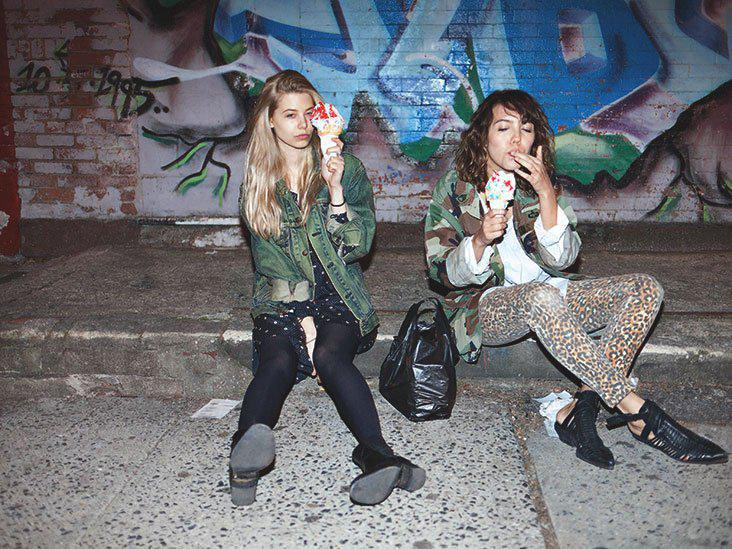Drunk: (484, 114, 534, 163), (278, 89, 317, 149)
